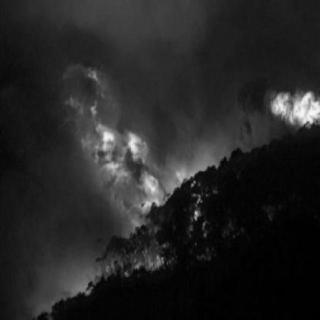Fire: (60, 49, 180, 265)
